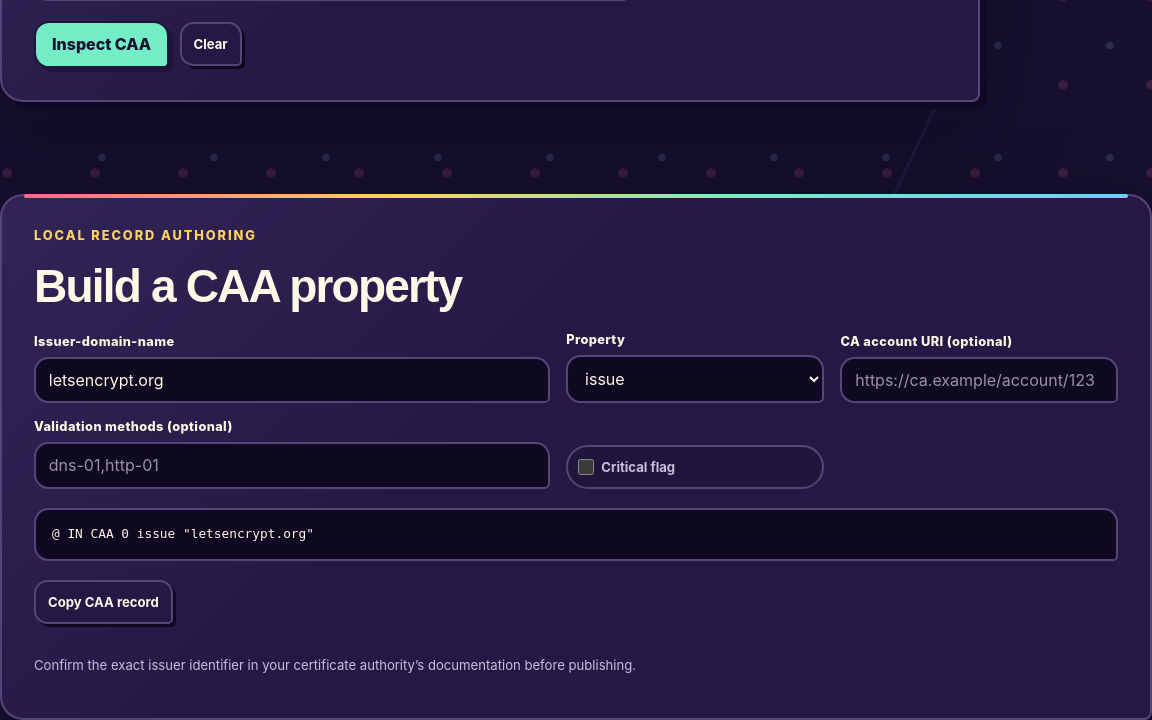
it: CaaPage › blocks copying malformed local CAA drafts and associates field errors
The image size is (1152, 720).
(page scrolled)
Replace the text in the field labelled "Issuer-domain-name" with "not a domain" at (292, 380), box [34,357,550,403]
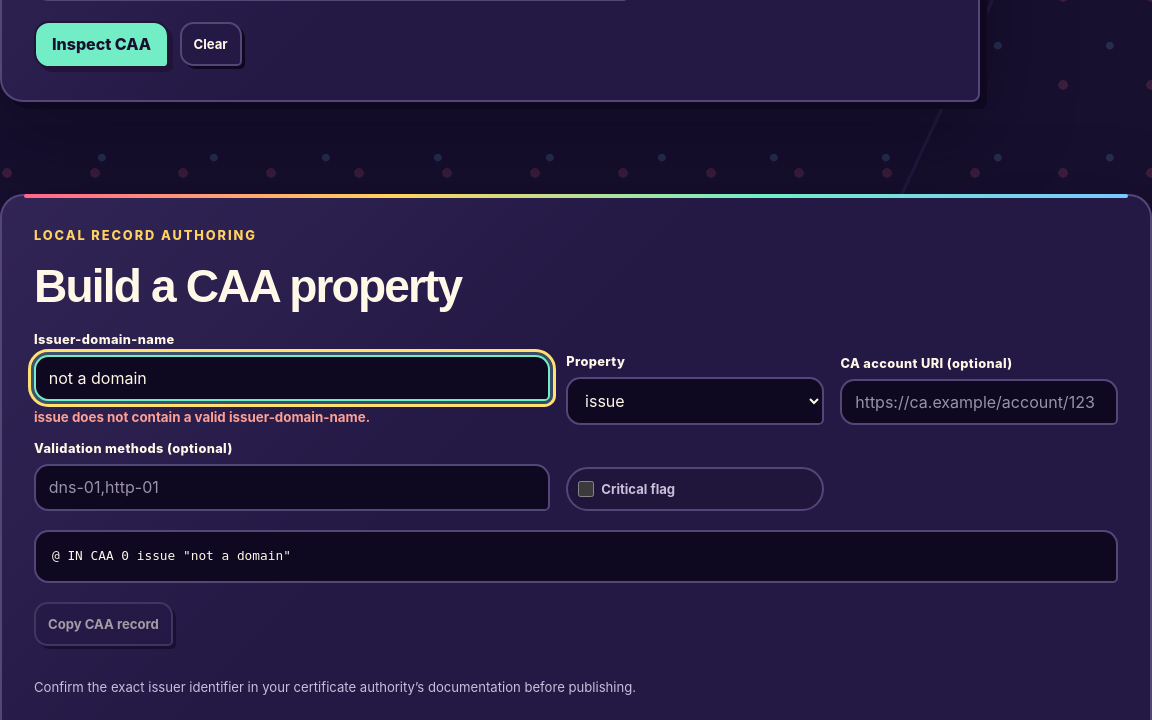
Now the button "Copy CAA record" is disabled, box [34,602,173,646]
Clear the field labelled "Issuer-domain-name" at (292, 378), box [34,355,550,401]
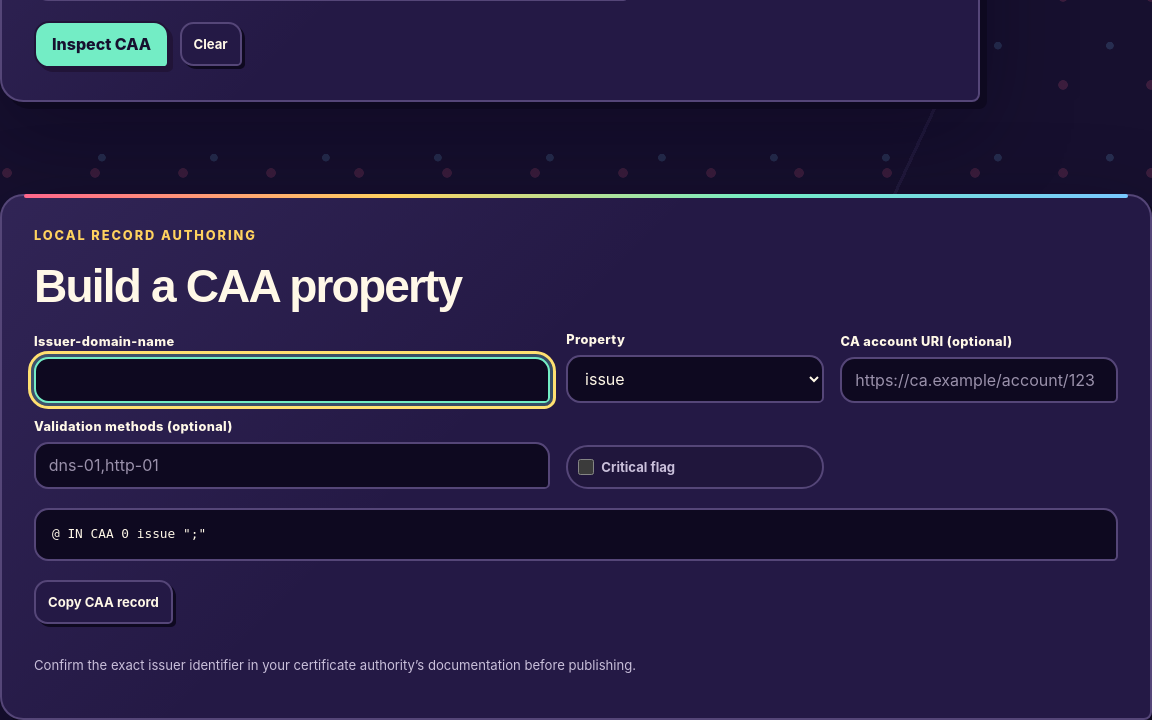
Type "ca.example" into the field labelled "Issuer-domain-name" at (292, 380), box [34,357,550,403]
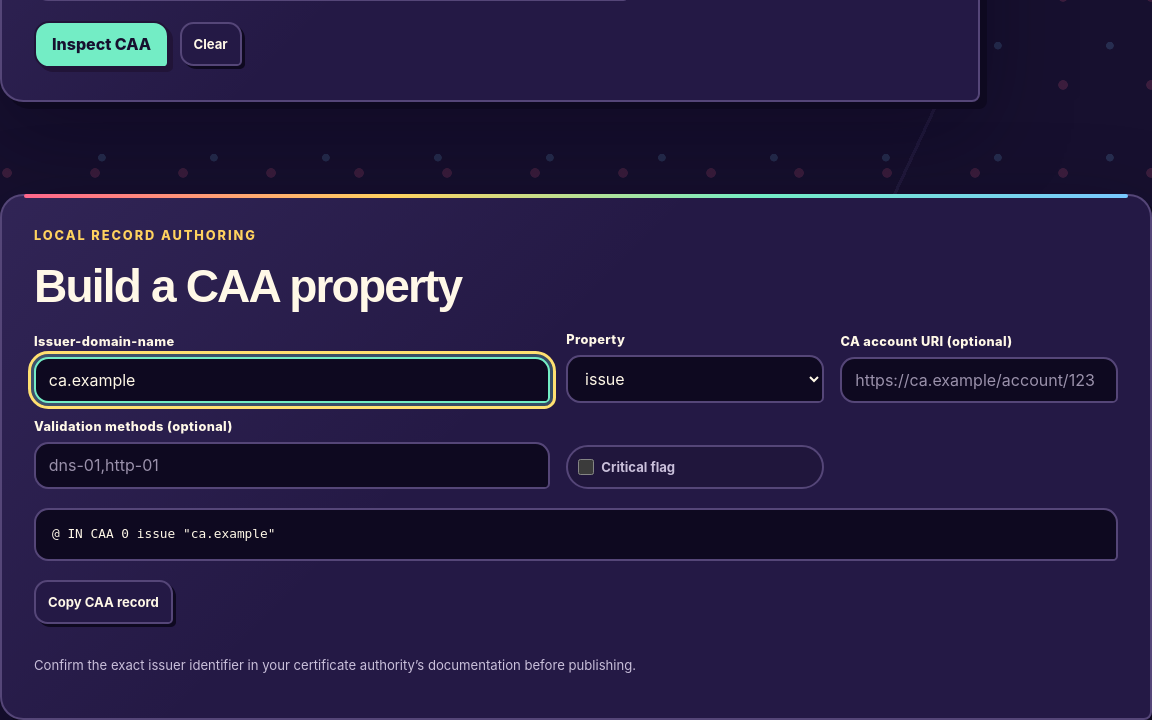
Now the button "Copy CAA record" is enabled, box [34,580,173,624]
Type "not a uri" into the field labelled "CA account URI (optional)" at (979, 380), box [840,357,1118,403]
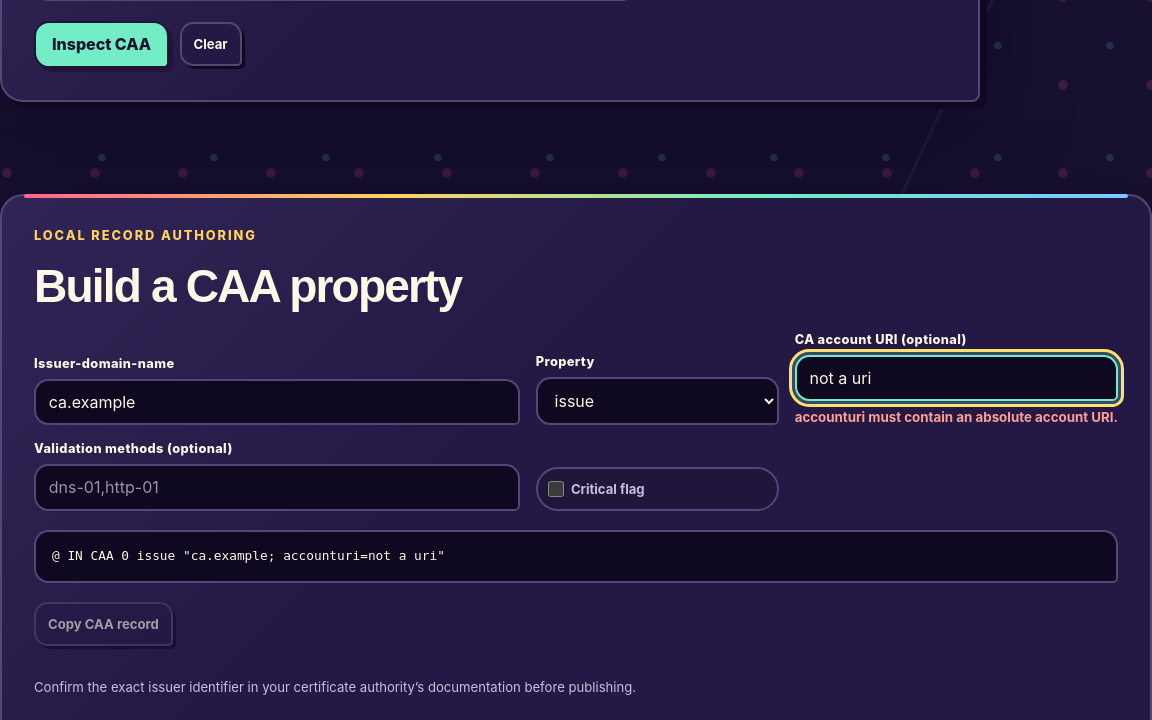
Now the button "Copy CAA record" is disabled, box [34,602,173,646]
Clear the field labelled "CA account URI (optional)" at (956, 378), box [795,355,1118,401]
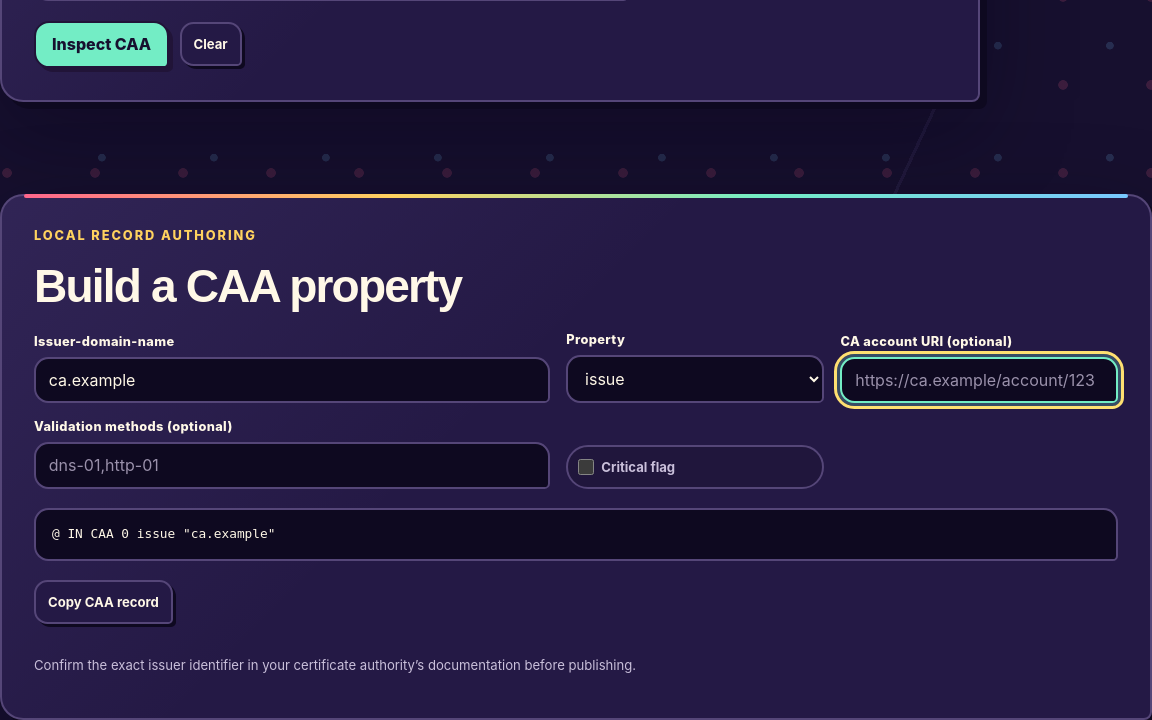
Type "dns 01" into the field labelled "Validation methods (optional)" at (292, 466), box [34,442,550,489]
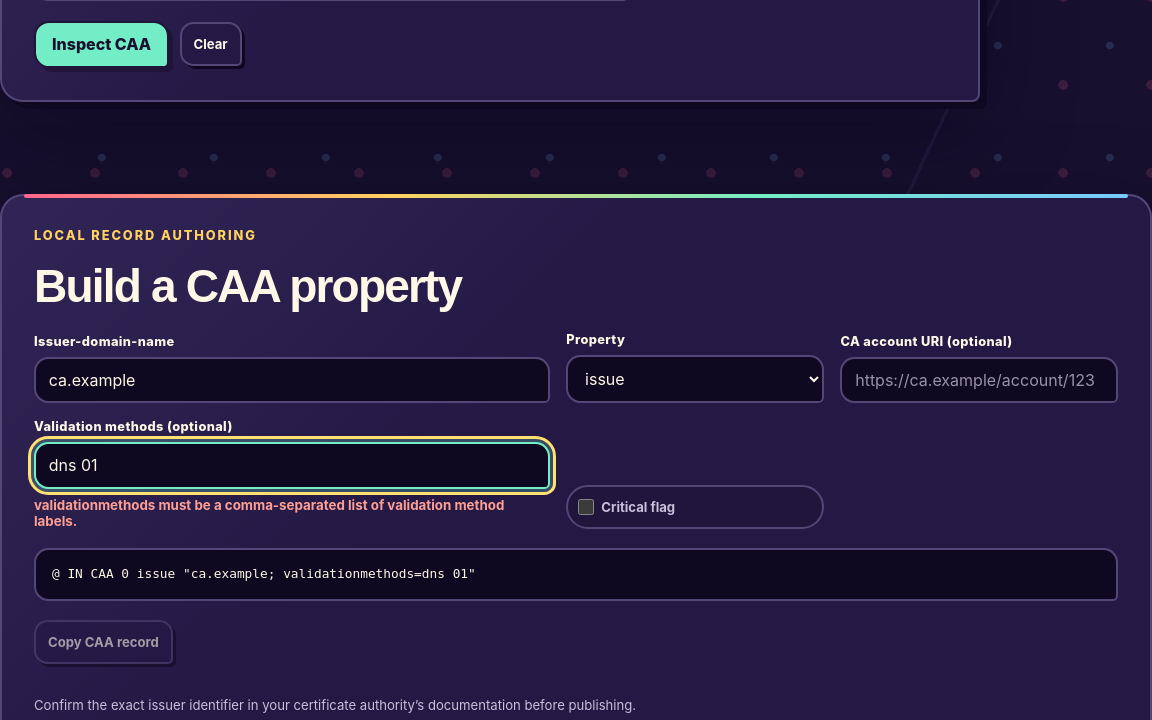
Now the button "Copy CAA record" is disabled, box [34,620,173,664]
